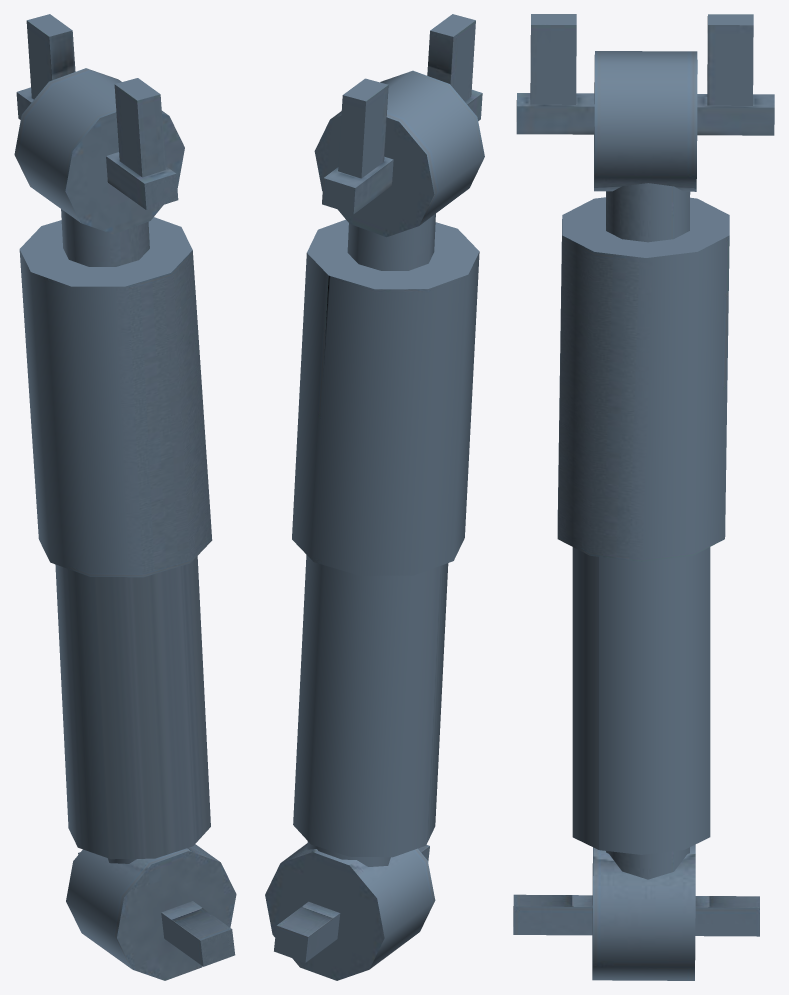
Rendered from jianyaqi001.FBX.
3 views of the same model, side by side, from view 1: azimuth 30°, elevation 25°; view 2: azimuth 150°, elevation 25°; view 3: azimuth 270°, elevation 25° (orthographic).
Visible parts, largest first — view 1: Object098; view 2: Object098; view 3: Object098.
Boxes of the visible parts, left/top/right/bottom form: Object098: left=14, top=14, right=236, bottom=980; Object098: left=265, top=14, right=484, bottom=980; Object098: left=513, top=14, right=774, bottom=980.
Size of the model in its own units: 0.0813 by 0.3977 by 0.1018.
